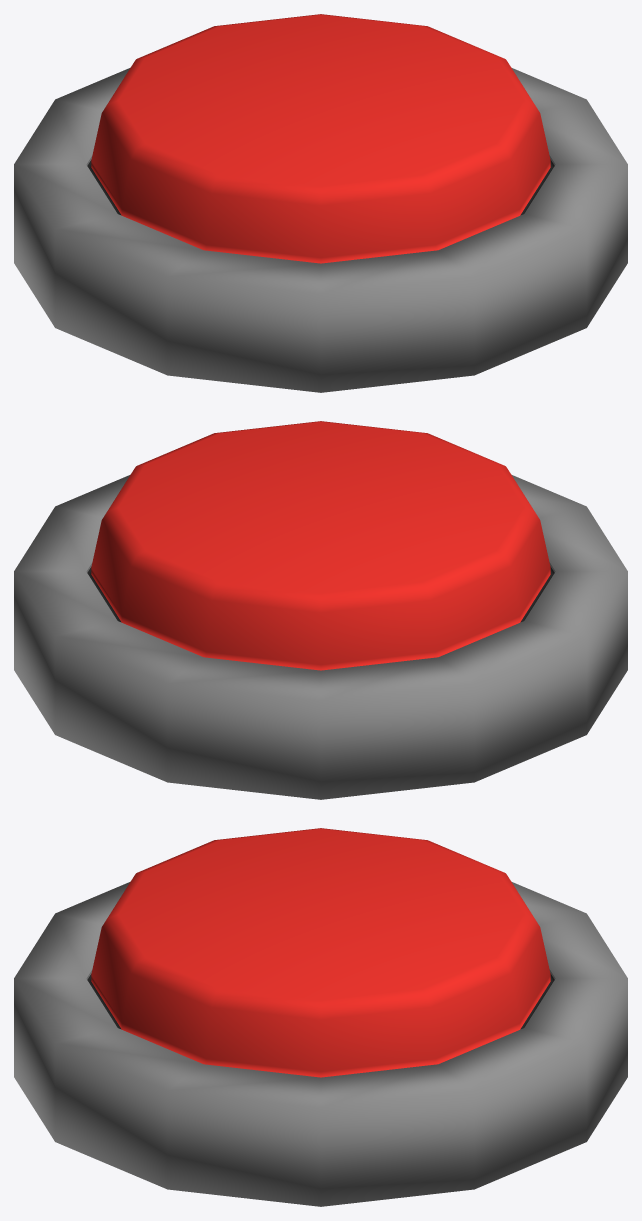
The model's file is Button.fbx.
The picture shows the model from 3 angles, top to bottom: view 1: azimuth 30°, elevation 25°; view 2: azimuth 150°, elevation 25°; view 3: azimuth 270°, elevation 25°; orthographic projection.
Parts seen in each view (by area): view 1: Cylinder; view 2: Cylinder; view 3: Cylinder.
Boxes of the visible parts, bbox=[...] form: Cylinder: bbox=[14, 14, 627, 392]; Cylinder: bbox=[14, 421, 627, 799]; Cylinder: bbox=[14, 828, 627, 1206].
Size of the model in its own units: 200 by 58.38 by 200.
